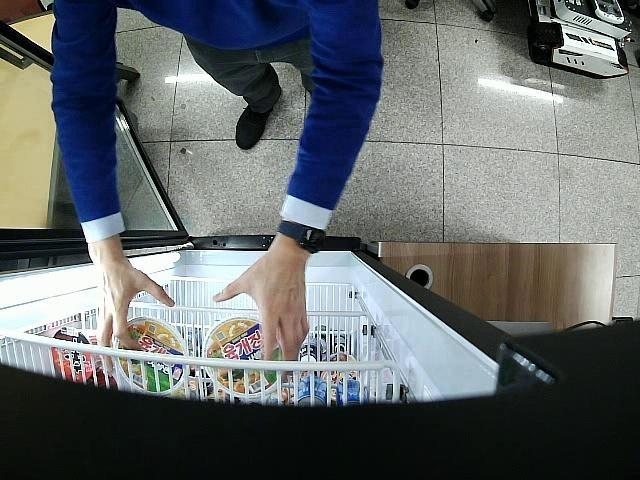09_yukGaeJang: (202, 317, 284, 400), (116, 317, 190, 396)
